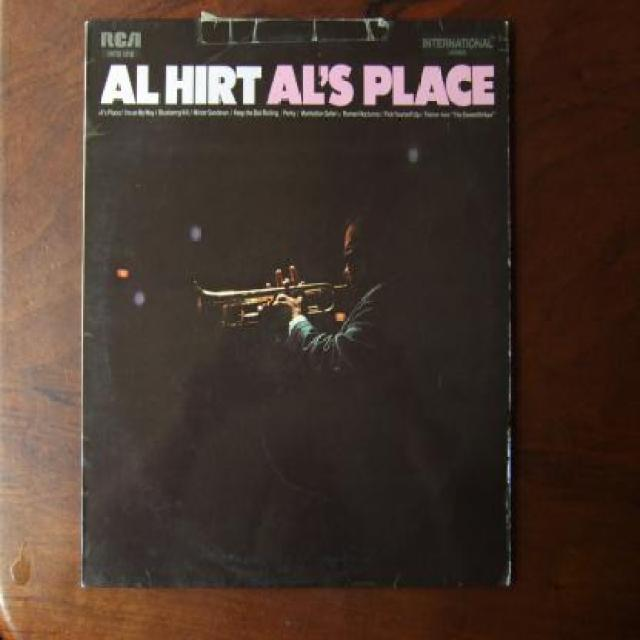Person: (267, 210, 416, 416)
